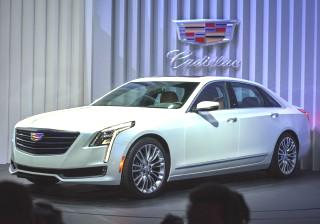cadillac: (26, 129, 50, 143)
